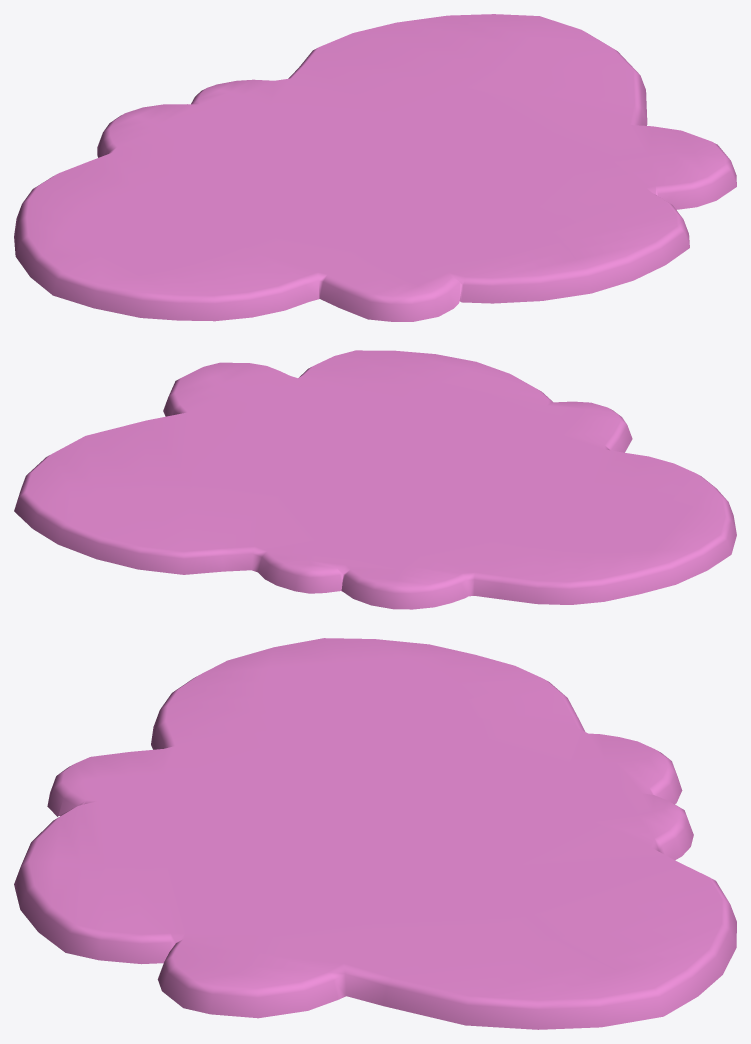
File: ENV_HAU_CARPET_MODEL.fbx
3 renders of one model, top to bottom at view 1: azimuth 30°, elevation 25°; view 2: azimuth 150°, elevation 25°; view 3: azimuth 270°, elevation 25°, orthographic. The views are drawn at different scales.
Visible parts, largest first — view 1: ENV_HAU_CARPET_MODEL; view 2: ENV_HAU_CARPET_MODEL; view 3: ENV_HAU_CARPET_MODEL.
Part boxes in pixels (box(x1,y1,x2,y2)): ENV_HAU_CARPET_MODEL: box(14, 14, 736, 321); ENV_HAU_CARPET_MODEL: box(14, 350, 736, 609); ENV_HAU_CARPET_MODEL: box(14, 638, 736, 1029).
Bounding box in the file's own units: 104 × 3.39 × 84.9.
